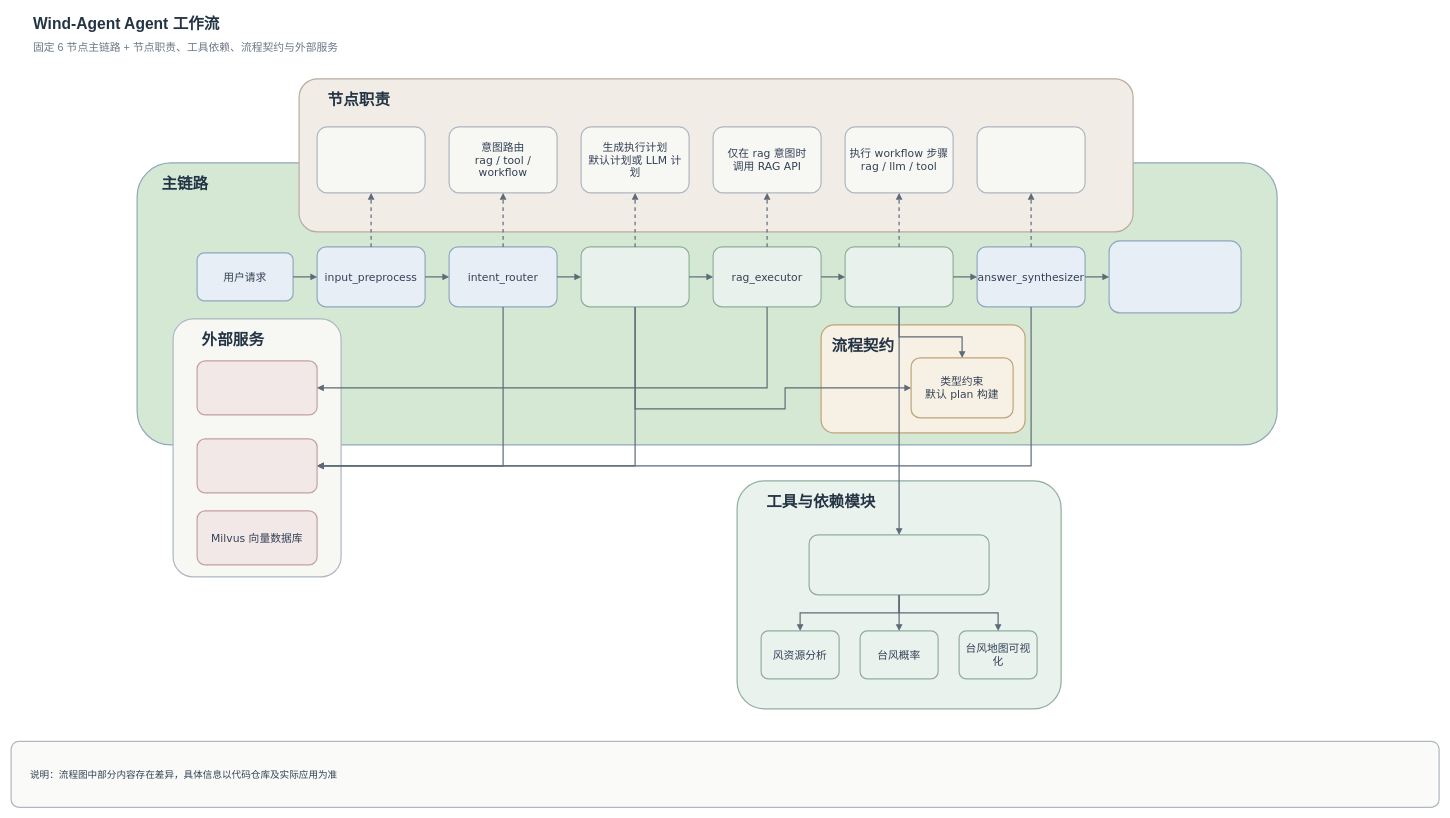
The diagram is 1450 pixels wide and 818 high, and some of its shapes have lost their labels. The shapes that lost their labels are listed below. From the top down, each one's centre as x and y in pixels, then its label:
At point (370, 159): "预处理输入 识别文件路径/目录 补全 state".
At point (1030, 159): "汇总结果 输出最终中文答复".
At point (634, 276): "workflow_planner".
At point (898, 276): "tool_executor".
At point (1174, 276): "返回 summary / analysis / trace".
At point (256, 387): "功能型 vLLM 服务".
At point (256, 465): "编排型 vLLM 服务".
At point (898, 564): "工具注册与统一执行".
